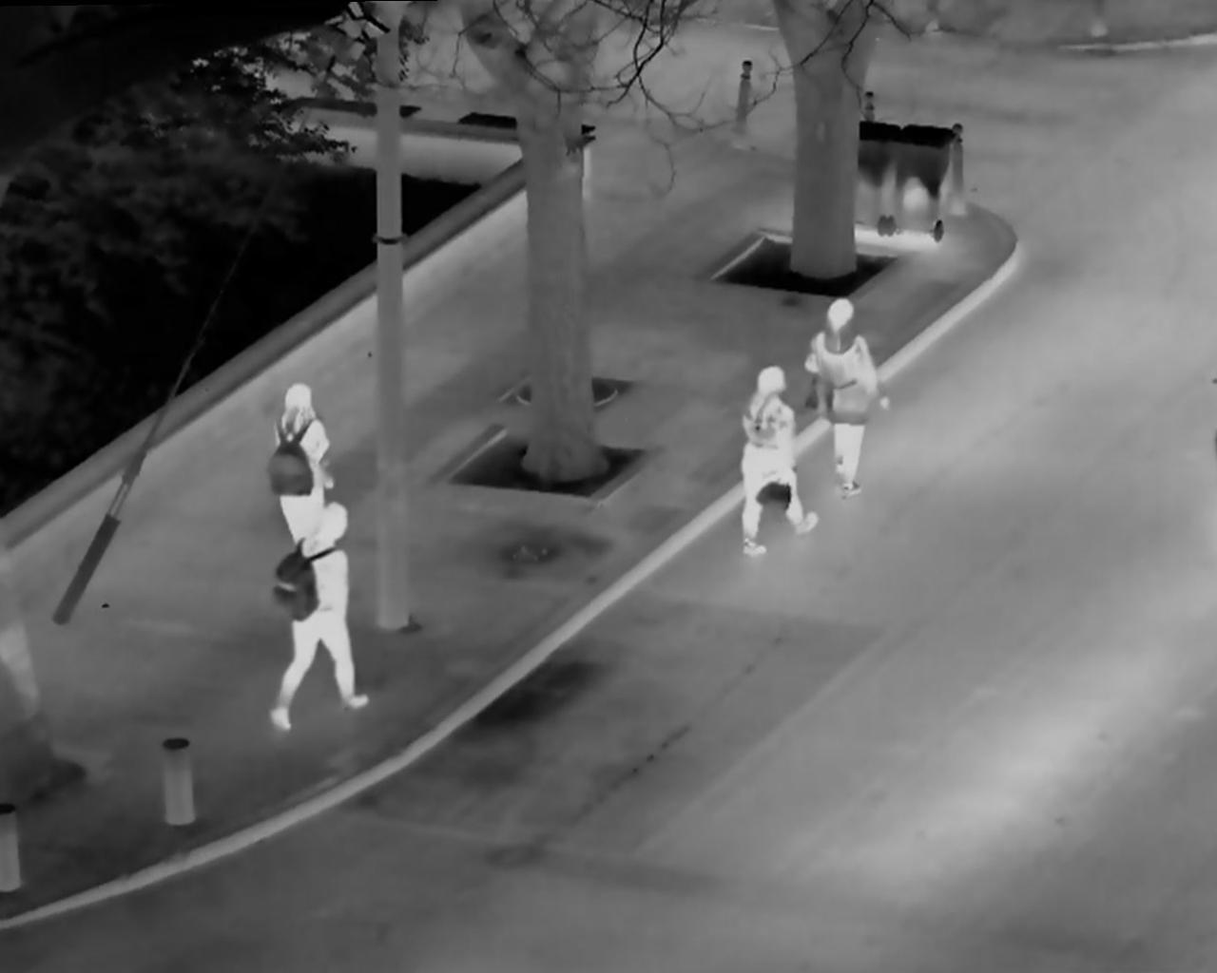person: (280, 499, 383, 732), (797, 290, 892, 512), (731, 355, 820, 561), (256, 367, 345, 554)
